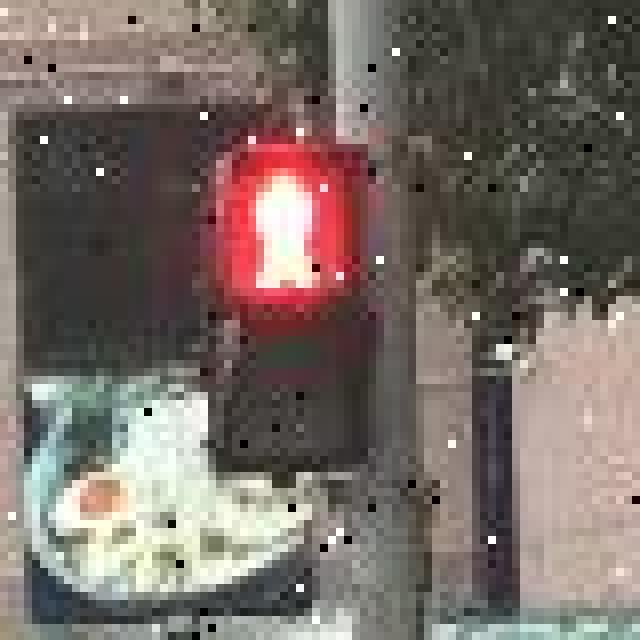redlight: (192, 96, 400, 480)
